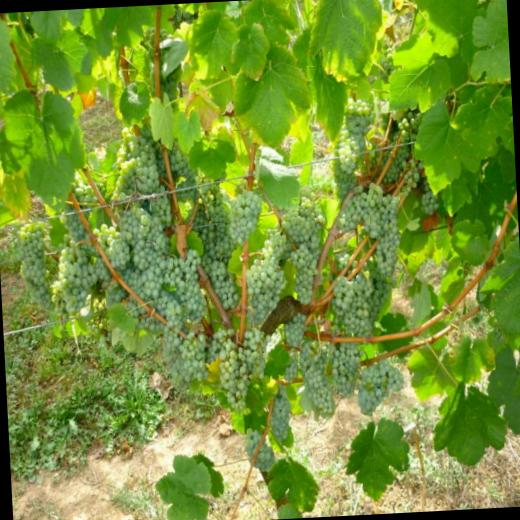Orange: (45, 109, 410, 432), (376, 52, 438, 216), (11, 219, 56, 316), (336, 96, 380, 175), (144, 26, 186, 108), (266, 381, 292, 445), (244, 425, 277, 472)
